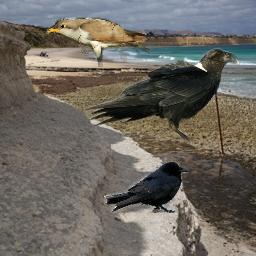Crow: (83, 47, 242, 145), (104, 161, 189, 213)
Cuckoo: (44, 17, 150, 67)
